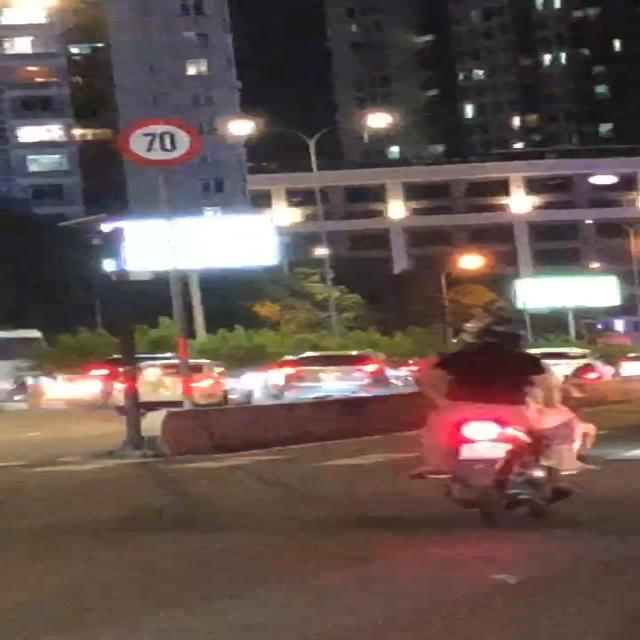Bien bao toc do toi da cho phep: (114, 116, 209, 168)
